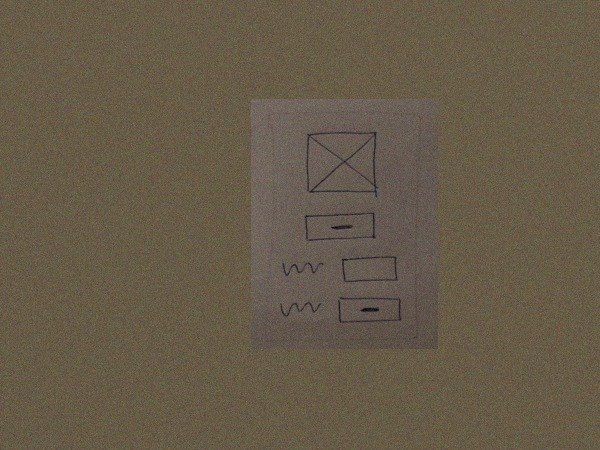button: (301, 209, 377, 246), (336, 295, 405, 326)
image: (304, 129, 380, 199)
text: (277, 297, 324, 321), (278, 258, 324, 281)
text_input: (340, 254, 403, 287)
